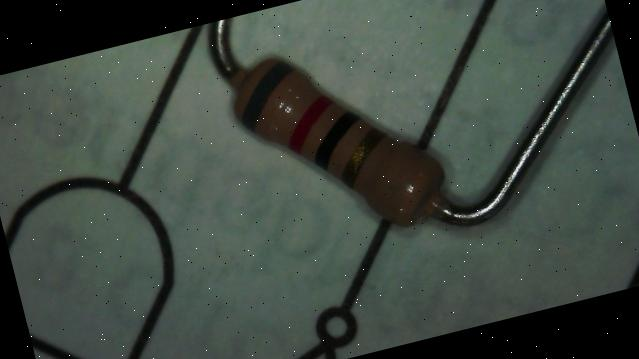black: (303, 107, 368, 170)
gold: (330, 126, 393, 187)
grey: (228, 58, 306, 132)
red: (277, 93, 341, 155)
resistor: (199, 27, 470, 241)
